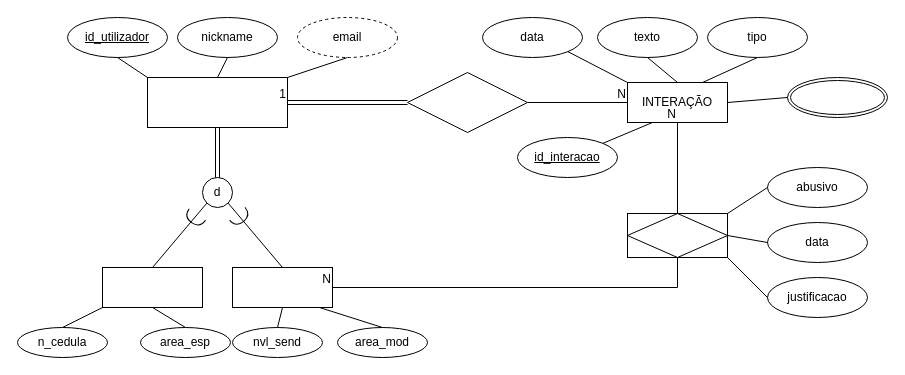
Some shapes in this 905 by 375 pixel diagram are drawn without their labels. The centre of each missing label's shape, as x and y in pixels:
"ANALIZA" belongs at point 677,235.
"MODERADOR" belongs at point 282,287.
"plataforma" belongs at point 837,97.
"PSICÓLOGO" belongs at point 152,287.
"REGISTRA" belongs at point 467,102.
"UTILIZADOR" belongs at point 217,102.
